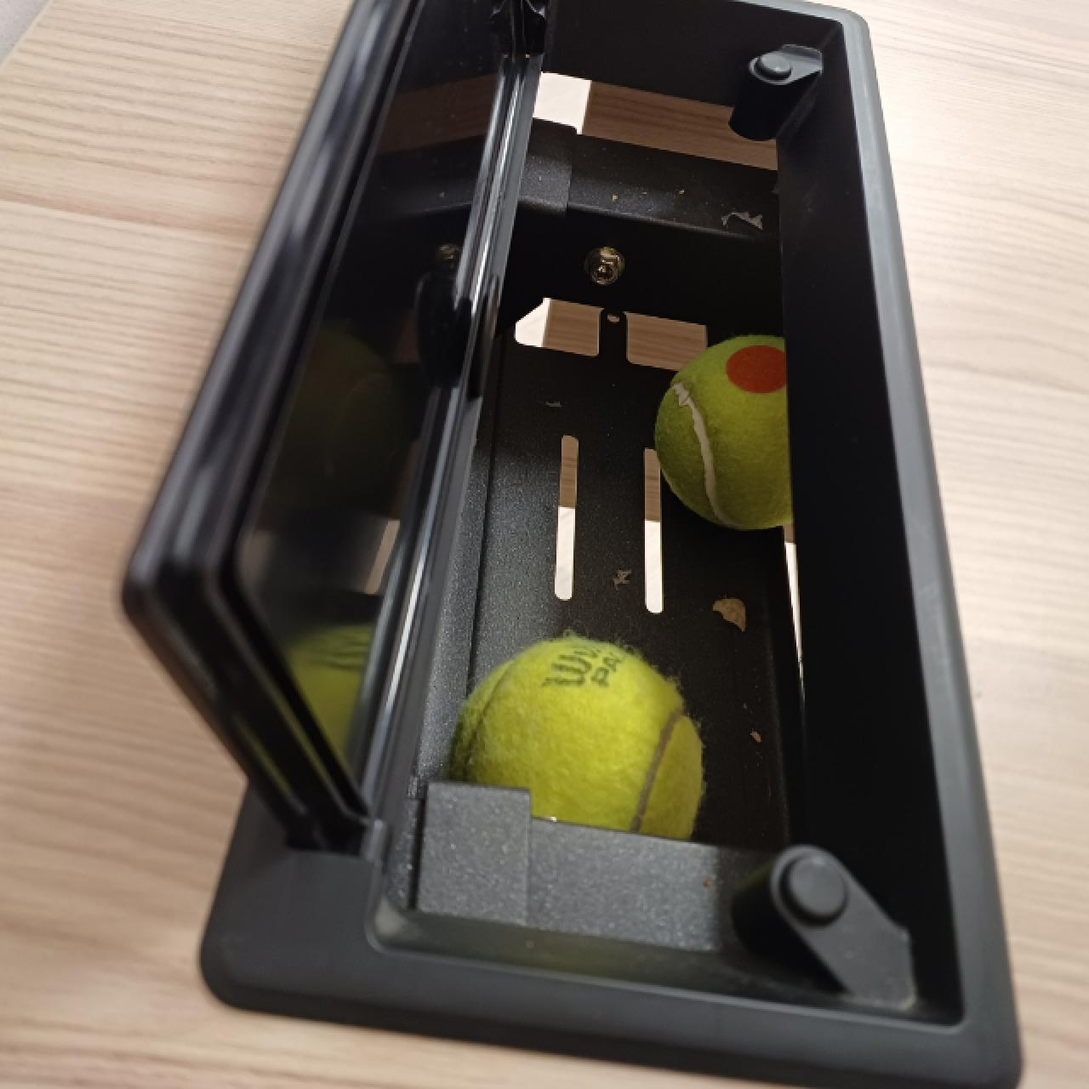tennis-ball: (449, 634, 704, 871), (654, 332, 841, 532)
